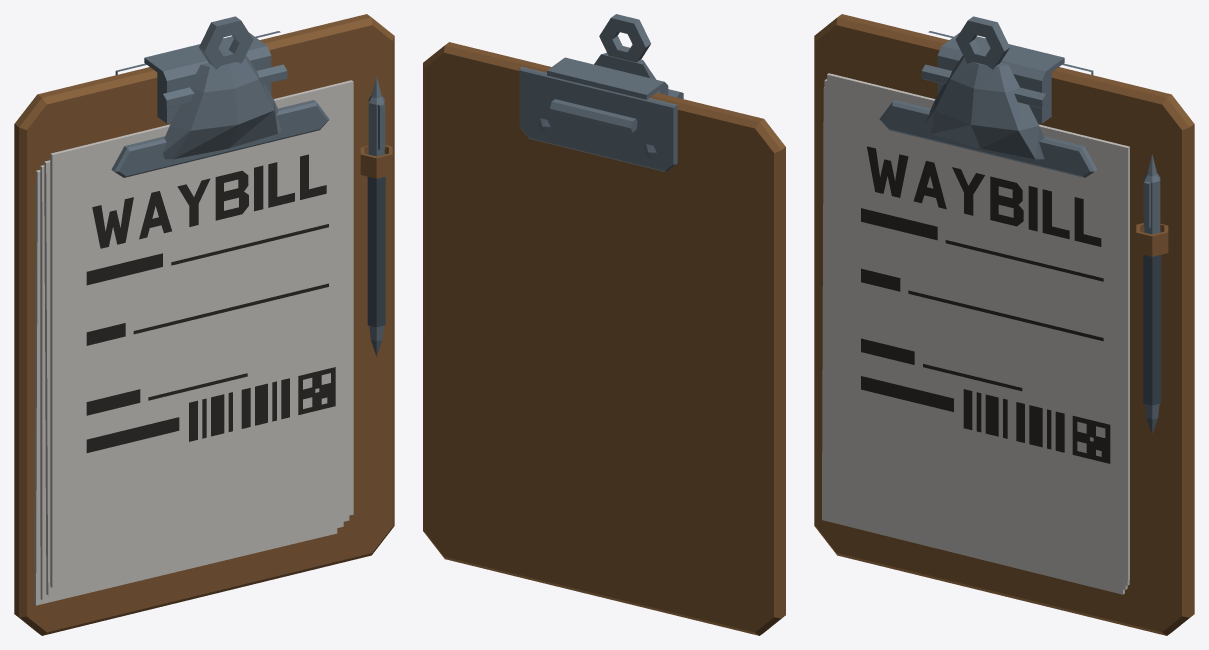
Rendered from logs.glb.
3 renders of one model, left to right at view 1: azimuth 30°, elevation 25°; view 2: azimuth 150°, elevation 25°; view 3: azimuth 330°, elevation 25°, orthographic. The views are drawn at different scales.
Visible parts, largest first — view 1: waybill-forms, clipboard-body, clip-lever-mesh, pen-mesh; view 2: clipboard-body, clip-lever-mesh; view 3: waybill-forms, clipboard-body, clip-lever-mesh, pen-mesh.
Part boxes in pixels (left/top/right/bottom): waybill-forms: left=34, top=80, right=353, bottom=605; clipboard-body: left=14, top=14, right=394, bottom=635; clip-lever-mesh: left=111, top=16, right=329, bottom=177; pen-mesh: left=367, top=76, right=385, bottom=356; clipboard-body: left=423, top=42, right=785, bottom=635; clip-lever-mesh: left=594, top=14, right=655, bottom=79; waybill-forms: left=822, top=73, right=1129, bottom=594; clipboard-body: left=814, top=14, right=1194, bottom=635; clip-lever-mesh: left=879, top=16, right=1097, bottom=177; pen-mesh: left=1143, top=154, right=1161, bottom=434.
Size of the model in its own units: 0.23 by 0.3445 by 0.0512.
